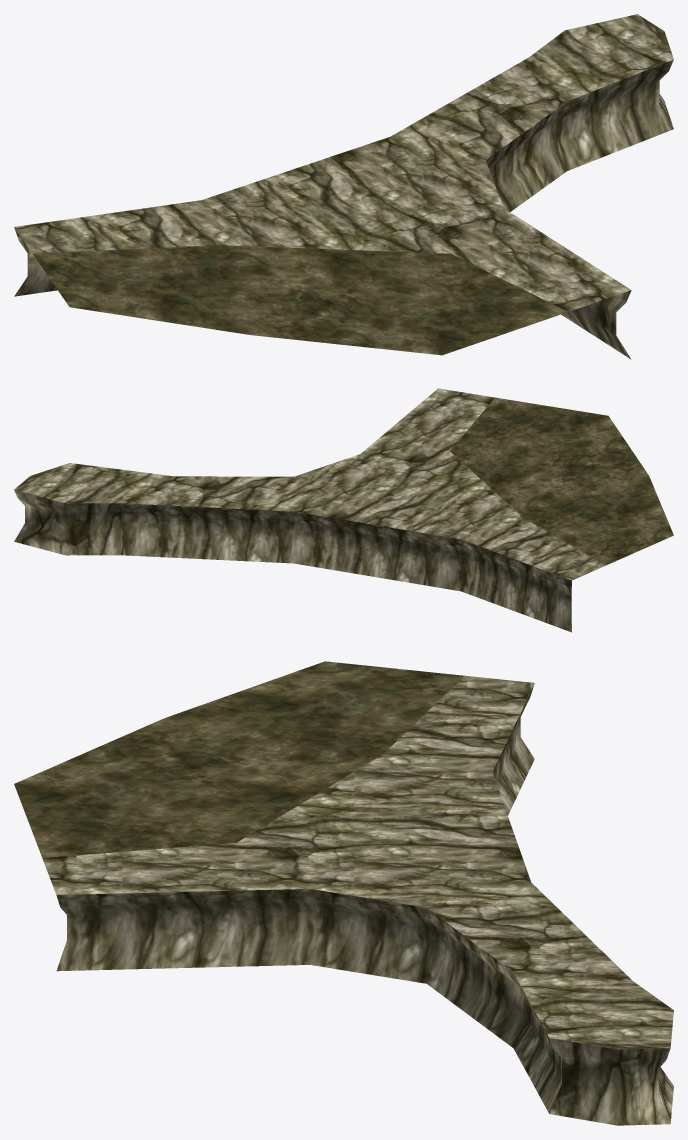
Rendered from CB_NEWPLAYSURFACE_CB_PLAYSURFACE152.fbx.
3 renders of one model, top to bottom at view 1: azimuth 30°, elevation 25°; view 2: azimuth 150°, elevation 25°; view 3: azimuth 270°, elevation 25°, orthographic. The views are drawn at different scales.
Parts seen in each view (by area): view 1: CB_NEWPLAYSURFACE_CB_PLAYSURFACE152; view 2: CB_NEWPLAYSURFACE_CB_PLAYSURFACE152; view 3: CB_NEWPLAYSURFACE_CB_PLAYSURFACE152.
Boxes of the visible parts, x1,y1,x2,y2 form: CB_NEWPLAYSURFACE_CB_PLAYSURFACE152: (14, 14, 673, 359); CB_NEWPLAYSURFACE_CB_PLAYSURFACE152: (14, 388, 673, 632); CB_NEWPLAYSURFACE_CB_PLAYSURFACE152: (14, 661, 673, 1125).
Bounding box in the file's own units: 328437 × 30000 × 235940.
3 materials, 3 textured.
